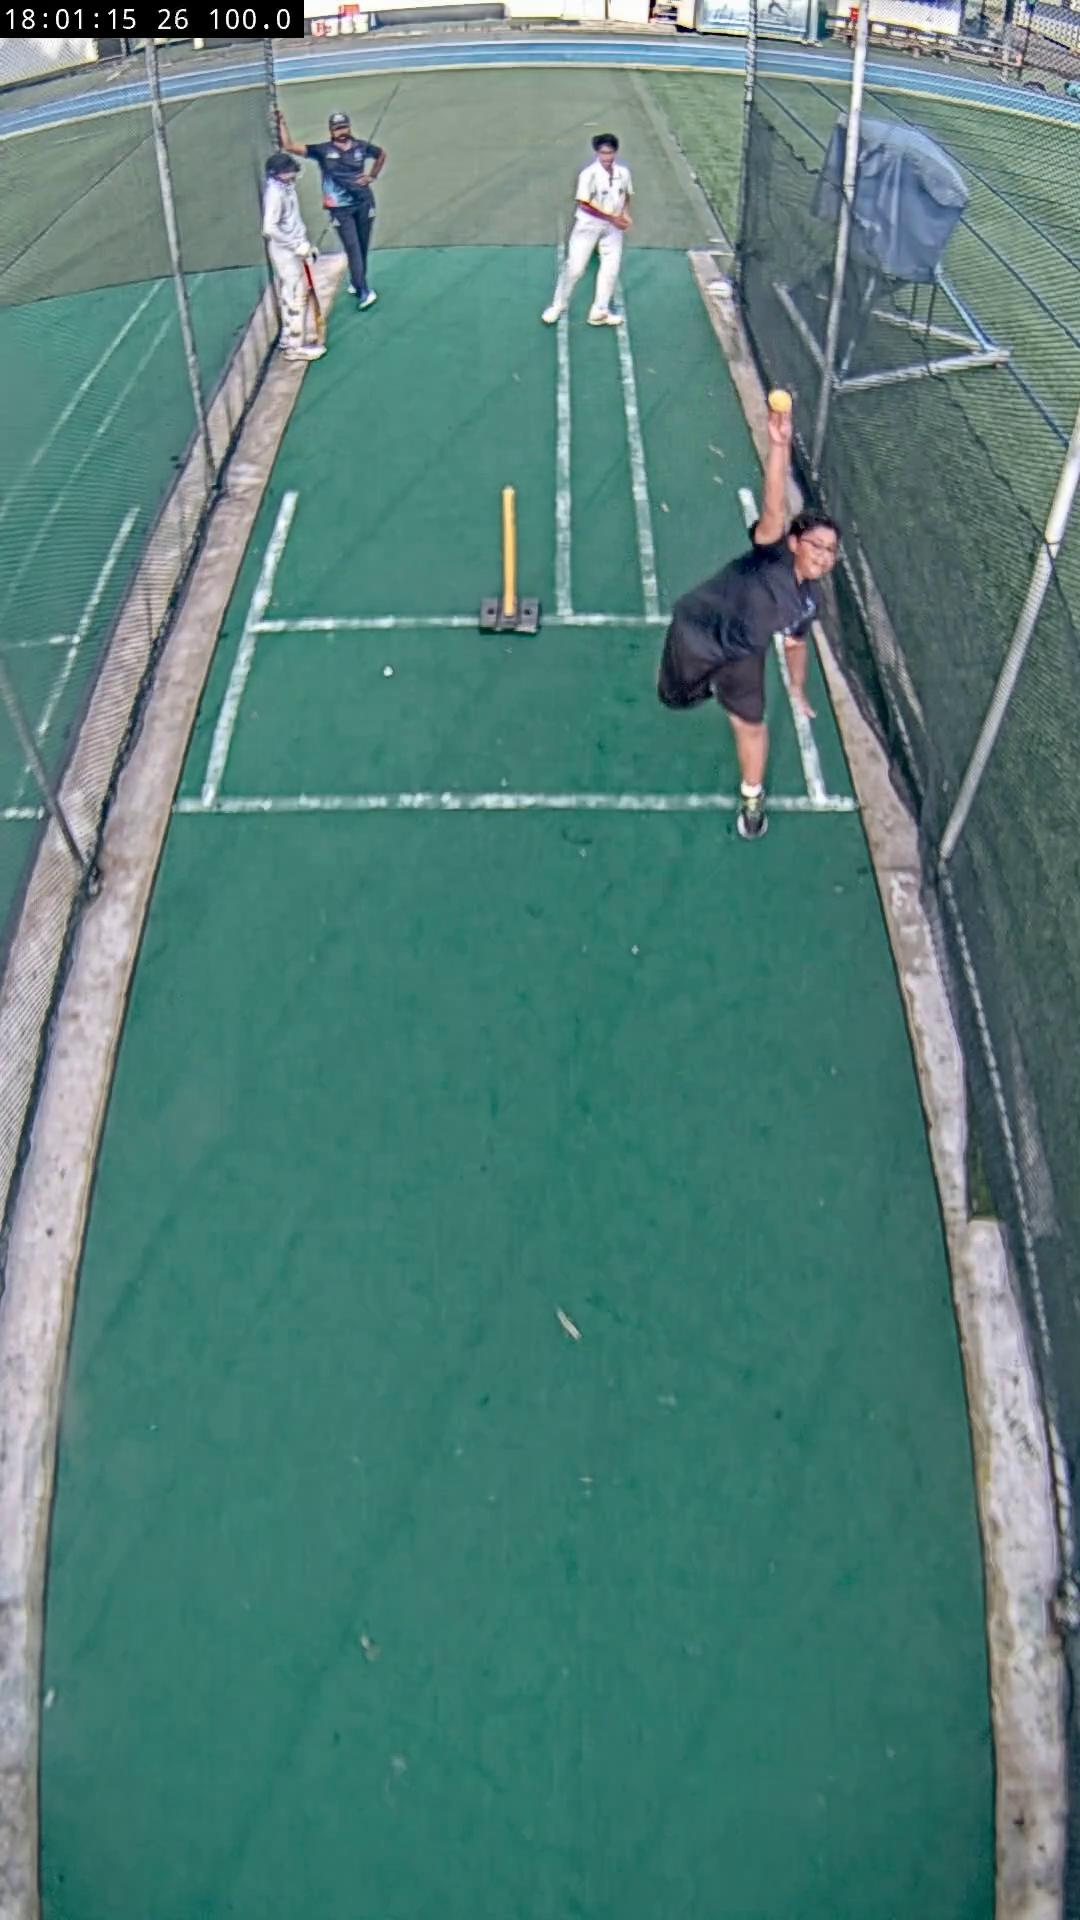ball: (769, 390, 791, 413)
stumps: (480, 488, 541, 634)
